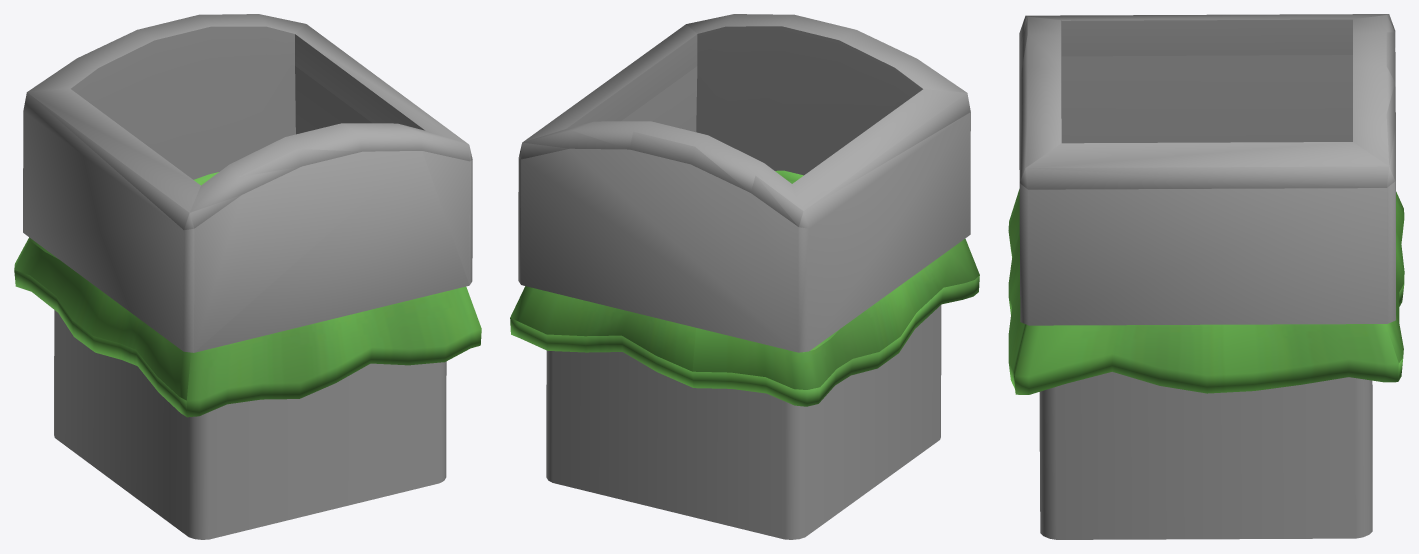
The model's file is Bin.glb.
3 renders of one model, left to right at view 1: azimuth 30°, elevation 25°; view 2: azimuth 150°, elevation 25°; view 3: azimuth 270°, elevation 25°, orthographic. The views are drawn at different scales.
Parts seen in each view (by area): view 1: Cube; view 2: Cube; view 3: Cube.
Part boxes in pixels (x1,y1,x2,y2): Cube: (14,14,481,539); Cube: (510,14,979,539); Cube: (1008,14,1404,539).
Bounding box in the file's own units: 3.39 × 3.95 × 3.37.
1 material, 1 textured.
